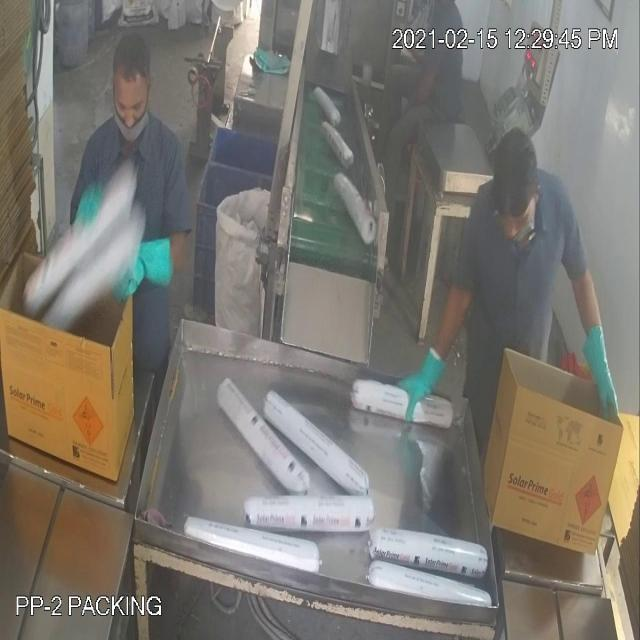gloves: (570, 278, 632, 426), (388, 321, 456, 454), (107, 223, 197, 305)
